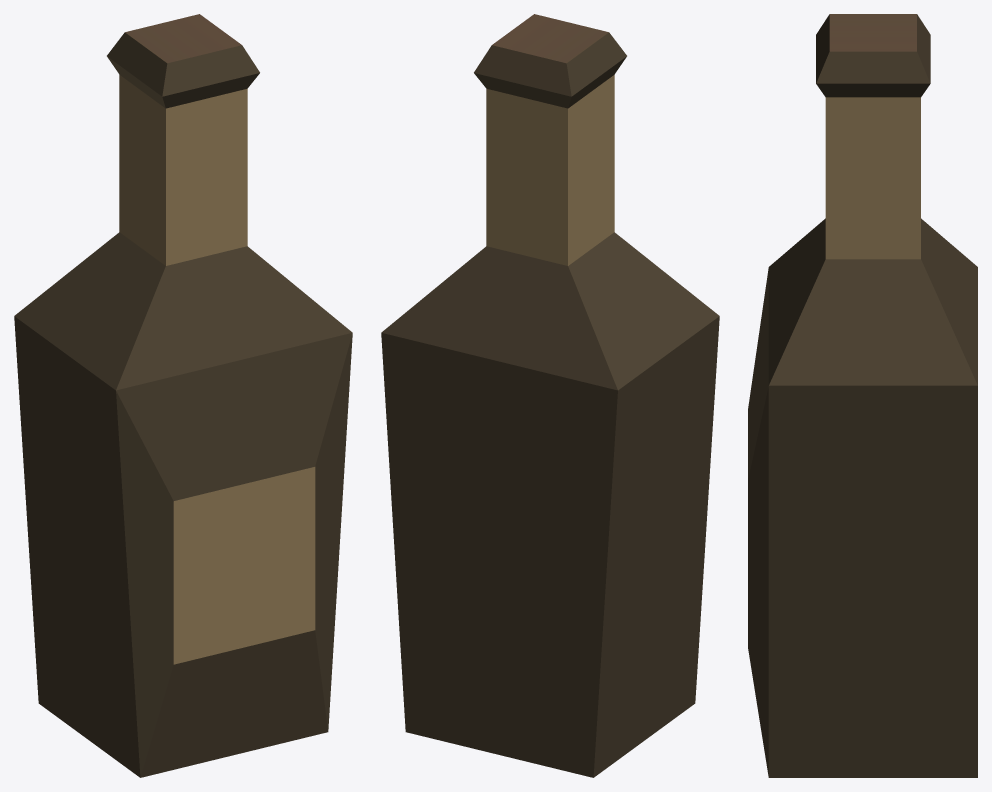
File: Bottle_5.fbx
3 views of the same model, side by side, from view 1: azimuth 30°, elevation 25°; view 2: azimuth 150°, elevation 25°; view 3: azimuth 270°, elevation 25° (orthographic). The views are drawn at different scales.
Parts seen in each view (by area): view 1: pCube432; view 2: pCube432; view 3: pCube432.
Part boxes in pixels (x1,y1,x2,y2): pCube432: [14, 14, 352, 777]; pCube432: [381, 14, 719, 777]; pCube432: [748, 14, 977, 777].
Bounding box in the file's own units: 13.61 × 37.3 × 11.13.
